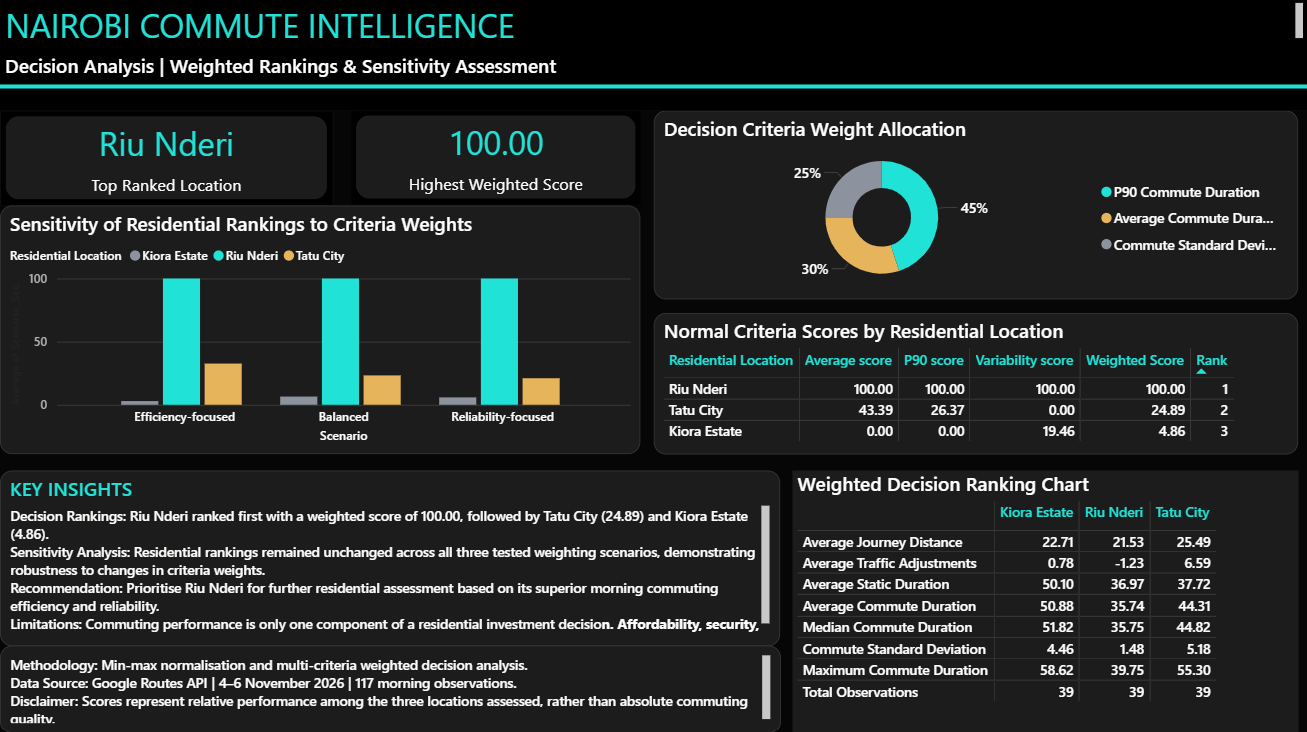

This screenshot's page, from the dashboard's own definition file:
{"tool":"powerbi","page":{"name":"Decision Analysis","canvas":[1280,720],"ordinal":2},"visuals":[{"type":"shape","box":[0,0,1280,110],"z":0,"group":"g1"},{"type":"cardVisual","fields":{"Data":["Decision_Rankings.Top Ranked Location"]},"box":[0,110,326.7,93.3],"z":0},{"type":"cardVisual","fields":{"Data":["Decision_Rankings.Highest Weighted Score"]},"box":[343.3,110,283.3,91.7],"z":0},{"type":"textbox","box":[0,0,1280,48.1],"z":2000,"group":"g1"},{"type":"donutChart","title":"Decision Criteria Weight Allocation","fields":{"Category":["Decsion Weights.Criterion"],"Y":["Sum(Decsion Weights.Weight)"]},"box":[640,110,630,185],"z":2000},{"type":"pivotTable","title":"Weighted Decision Ranking Chart","fields":{"Columns":["Dim_Location.Residential Location"],"Values":["Commute_Observations.Average Journey Distance","Commute_Observations.Average Traffic Adjustments","Commute_Observations.Average Static Duration","Commute_Observations.Average Commute Duration","Commute_Observations.Median Commute Duration","Commute_Observations.Commute Standard Deviation","Commute_Observations.Maximum Commute Duration","Commute_Observations.Total Observations"]},"box":[775,461.7,495,258.3],"z":3000},{"type":"textbox","box":[0,48.7,1280,43.2],"z":4000,"group":"g1"},{"type":"pivotTable","title":"Normal Criteria Scores by Residential Location","fields":{"Rows":["Dim_Location.Residential Location"],"Values":["Avg(Decision_Rankings.average_score)","Avg(Decision_Rankings.p90_score)","Avg(Decision_Rankings.variability_score)","Decision_Rankings.Weighted Performance Score","Min(Decision_Rankings.rank)"]},"box":[640,308.3,630,138.3],"z":4000},{"type":"clusteredColumnChart","title":"Sensitivity of Residential Rankings to Criteria Weights","fields":{"Category":["Sensitivity_analysis.Scenario"],"Y":["Avg(Sensitivity_analysis.Scenario_Score)"],"Series":["Dim_Location.Residential Location"]},"box":[0,203.3,626.7,243.3],"z":5000},{"type":"shape","box":[0,81.2,1280,11.7],"z":6000,"group":"g1"},{"type":"textbox","title":"KEY INSIGHTS","box":[0,461.7,763.3,171.7],"z":6000},{"type":"textbox","box":[0,633.8,763.8,86.2],"z":7000},{"type":"group","id":"g1","title":"Report Header","box":[0,0,1280,110],"z":8000}]}

Visuals, with their boxes in screenshot pixels (x1, y1, x2, y2), scaled from the page's 1280x720 canvas onto the 1307x732 screenshot:
shape: [0, 0, 1306, 112]
cardVisual - Decision_Rankings.Top Ranked Location: [0, 112, 334, 207]
cardVisual - Decision_Rankings.Highest Weighted Score: [351, 112, 640, 205]
textbox: [0, 0, 1306, 49]
"Decision Criteria Weight Allocation" donutChart: [654, 112, 1297, 300]
"Weighted Decision Ranking Chart" pivotTable: [791, 469, 1297, 731]
textbox: [0, 50, 1306, 93]
"Normal Criteria Scores by Residential Location" pivotTable: [654, 313, 1297, 454]
"Sensitivity of Residential Rankings to Criteria Weights" clusteredColumnChart: [0, 207, 640, 454]
shape: [0, 83, 1306, 94]
"KEY INSIGHTS" textbox: [0, 469, 779, 644]
textbox: [0, 644, 780, 731]
"Report Header" group: [0, 0, 1306, 112]
